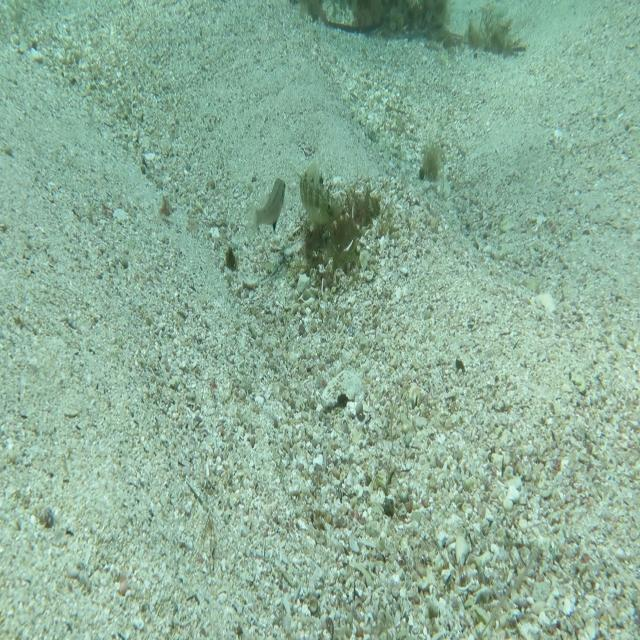ROLL: (299, 152, 346, 231)
female: (244, 176, 288, 237)
nest: (283, 168, 387, 304)
